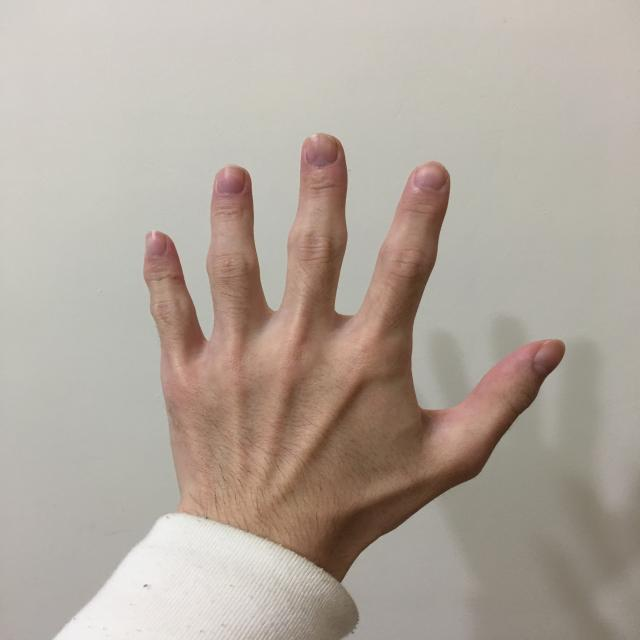no_glove: (124, 122, 572, 564)
